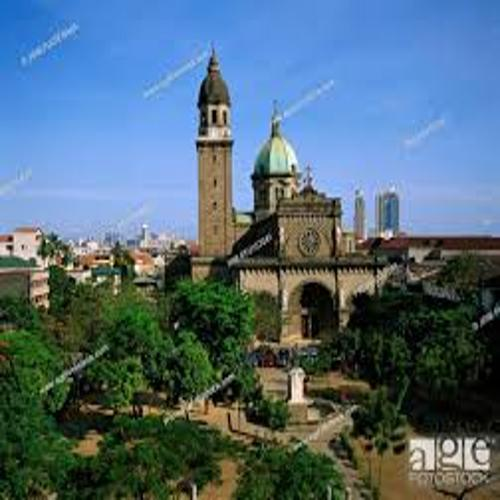Manila Cathedral Church: (158, 40, 392, 358)
